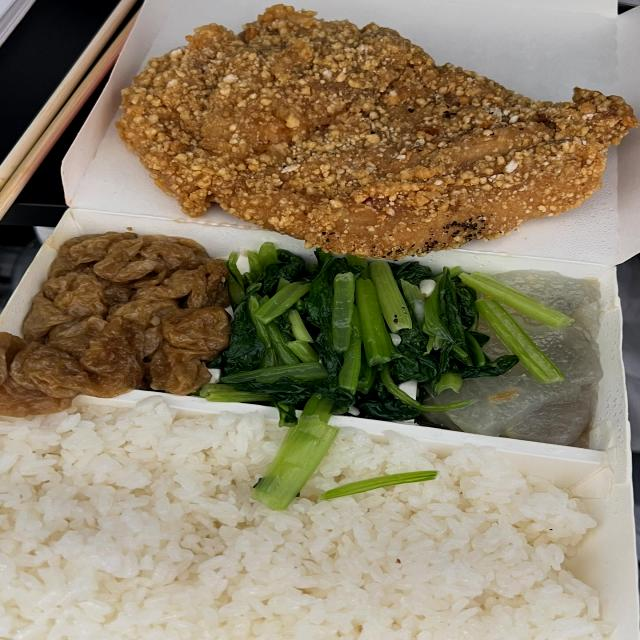Fushan-lettuce: (237, 264, 471, 403)
meat: (116, 75, 640, 250)
rice: (18, 482, 532, 630)
